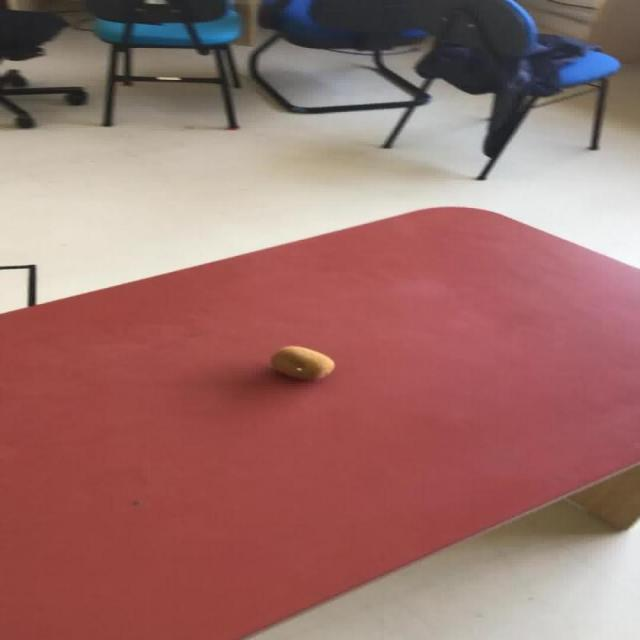Kiwi: (268, 345, 334, 380)
